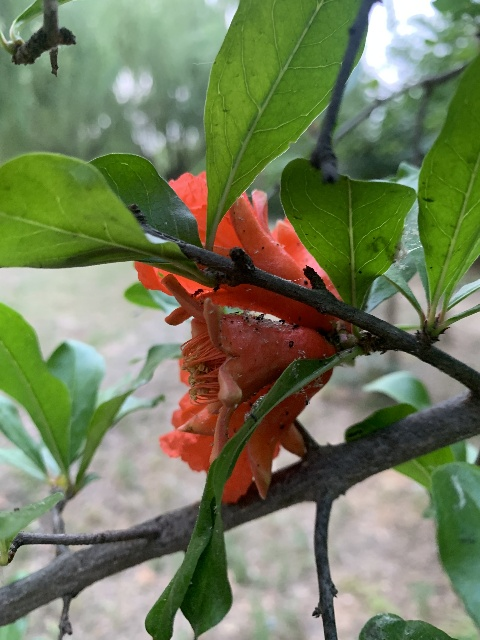flower: (160, 273, 335, 466), (134, 171, 333, 329), (157, 367, 333, 503)
